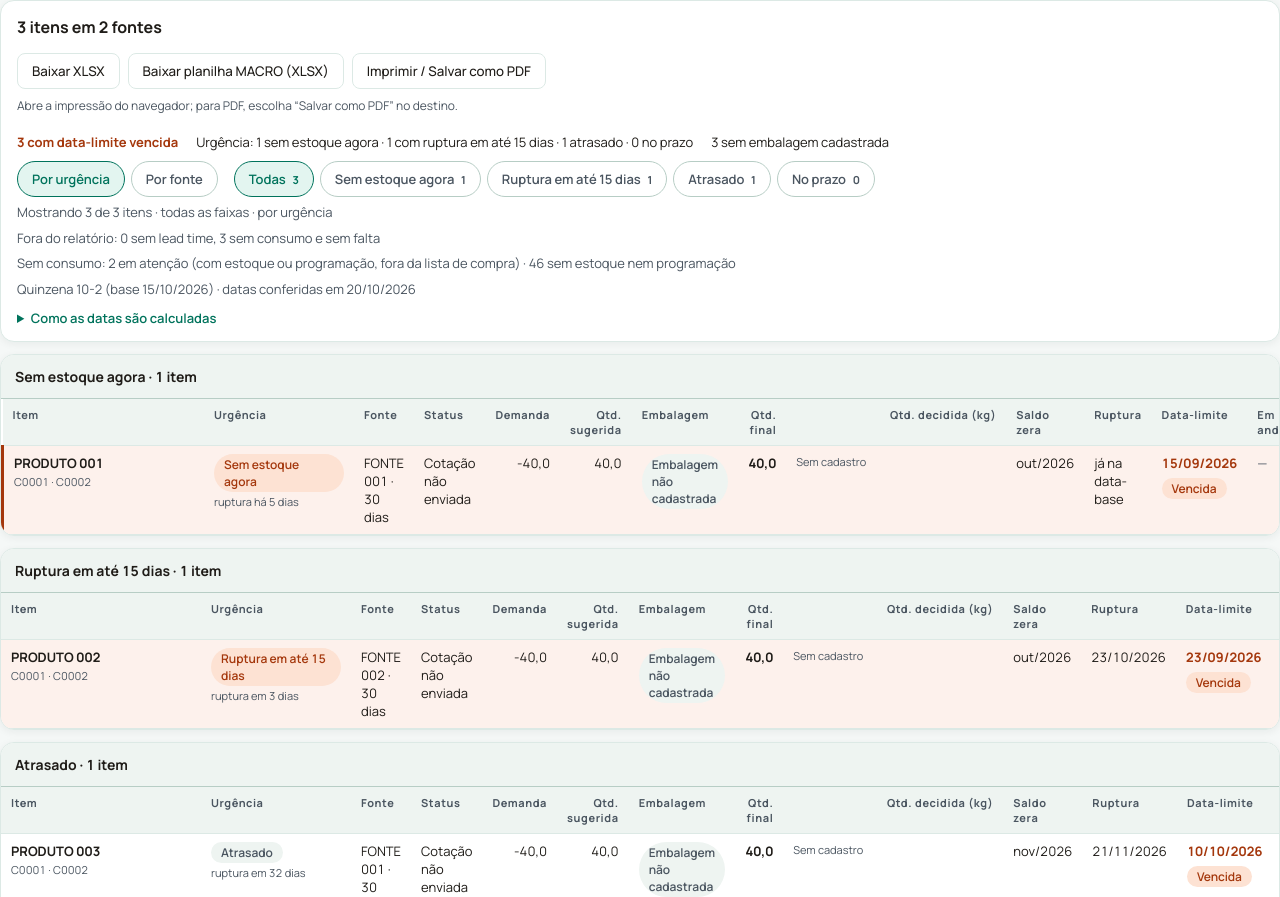
Test: ForecastRelatorioCompras - urgencia (PR 2D) › faixa sem itens continua clicavel e mostra o aviso
Check: the text "3 itens em 2 fontes" is shown, box [17, 16, 162, 38]
Click the button "No prazo 0" at (826, 179), box [777, 161, 875, 197]
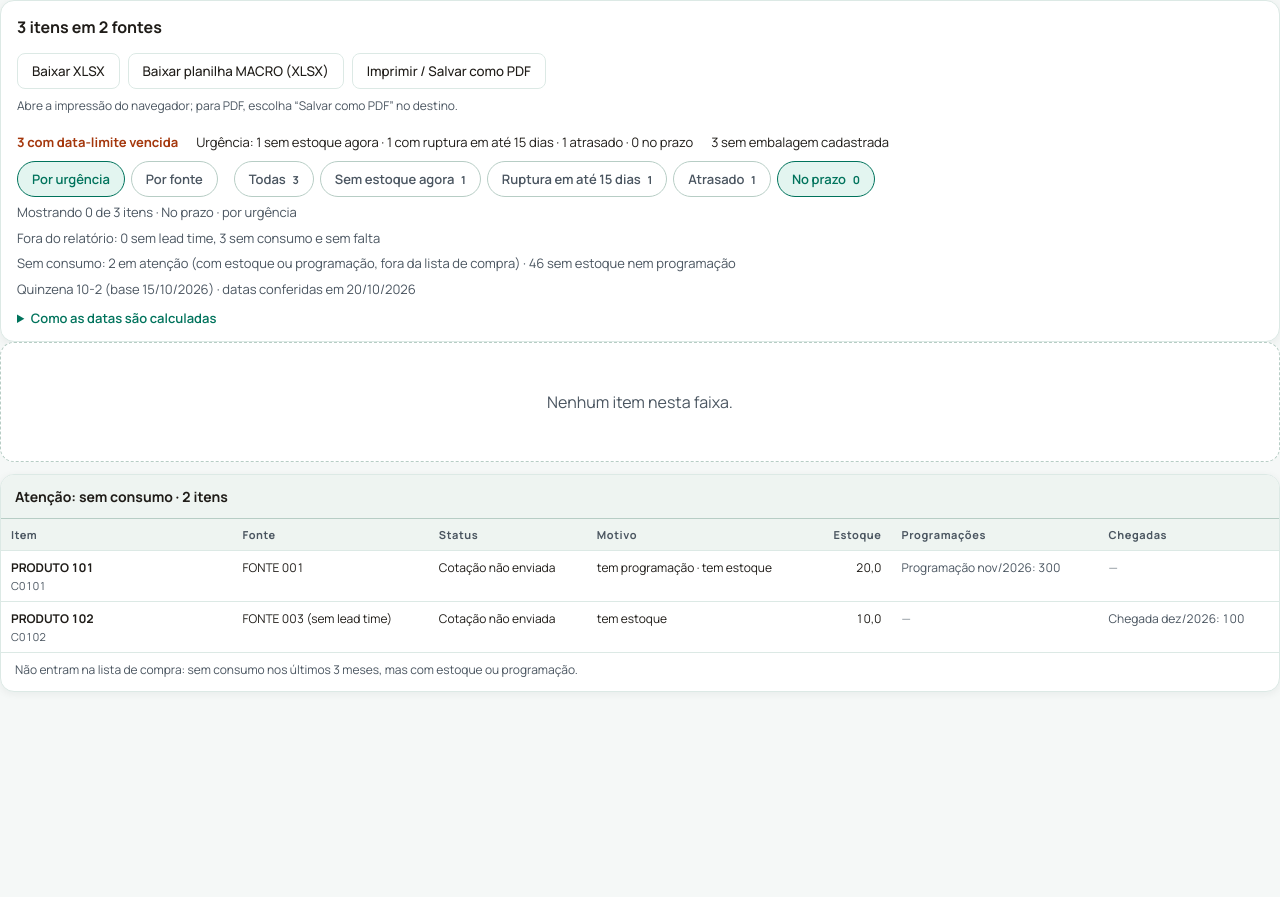
Check: the text "Nenhum item nesta faixa." is shown, box [0, 342, 1279, 462]
Check: the text "Mostrando 0 de 3 itens · No prazo · por urgência" is shown, box [17, 203, 297, 221]
